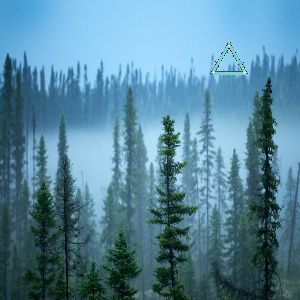triangle: (208, 40, 249, 78)
